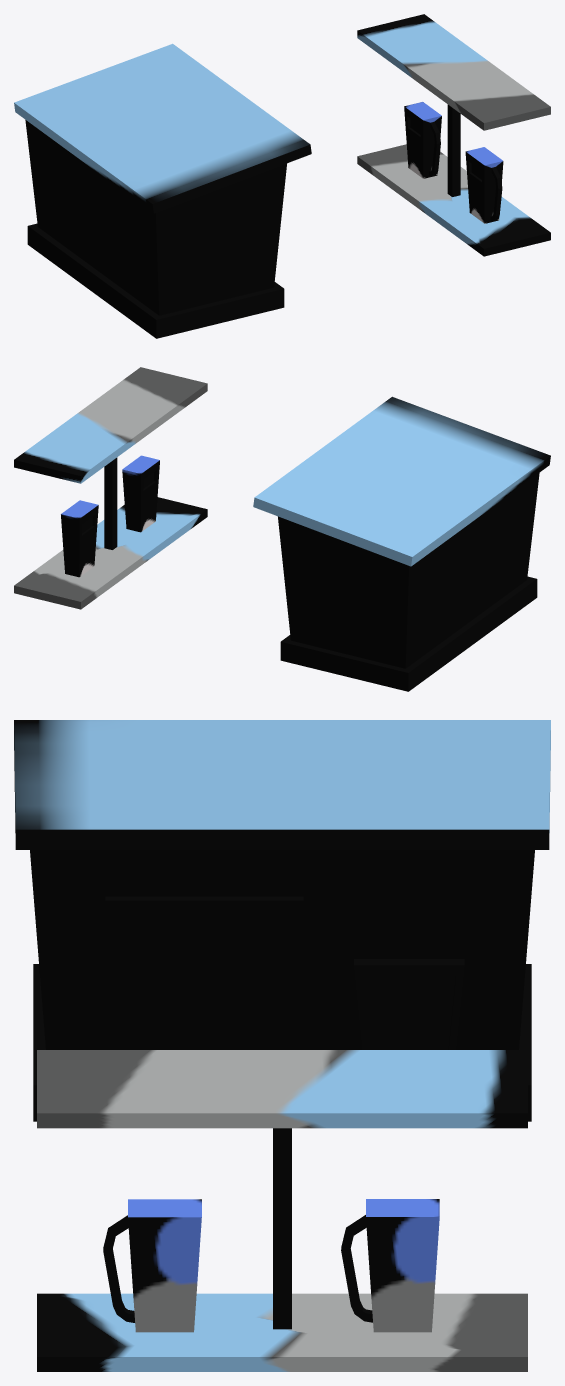
The model's file is gas station.fbx.
3 renders of one model, top to bottom at view 1: azimuth 30°, elevation 25°; view 2: azimuth 150°, elevation 25°; view 3: azimuth 270°, elevation 25°, orthographic. The views are drawn at different scales.
Visible parts, largest first — view 1: 1; view 2: 1; view 3: 1.
Part boxes in pixels (left/top/right/bottom): 1: left=14, top=14, right=550, bottom=338; 1: left=14, top=367, right=550, bottom=691; 1: left=14, top=720, right=550, bottom=1371.
Bounding box in the file's own units: 1207 × 460 × 717.
